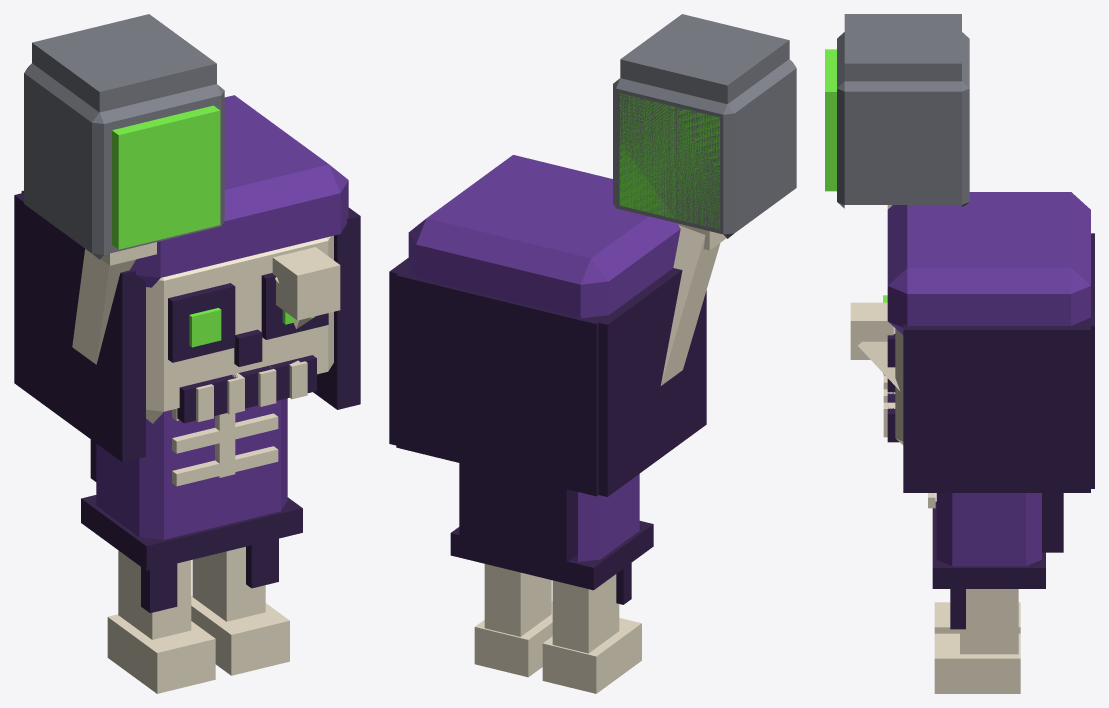
File: blinder_r4.glb
3 views of the same model, side by side, from view 1: azimuth 30°, elevation 25°; view 2: azimuth 150°, elevation 25°; view 3: azimuth 270°, elevation 25° (orthographic). The views are drawn at different scales.
Parts seen in each view (by area): view 1: blinder_r4_mesh; view 2: blinder_r4_mesh; view 3: blinder_r4_mesh.
Boxes of the visible parts, x1,y1,x2,y2 form: blinder_r4_mesh: (14,14,360,693); blinder_r4_mesh: (389,14,796,693); blinder_r4_mesh: (825,14,1094,693).
Size of the model in its own units: 0.7607 by 1.6 by 0.6773.
1 material, 1 textured.
